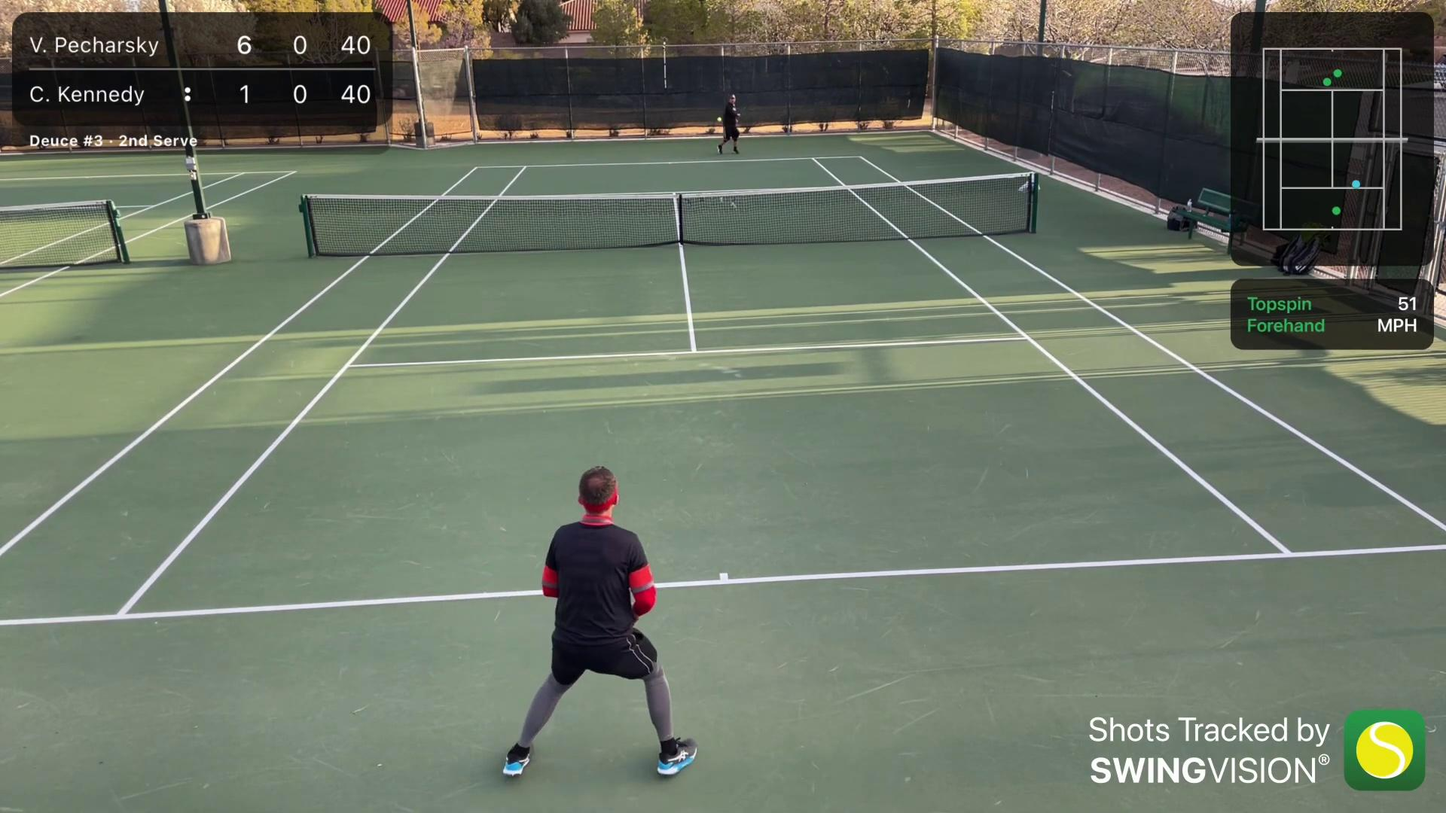ball: (717, 116, 723, 123)
